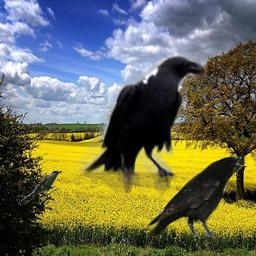Crow: (78, 52, 207, 199), (145, 154, 249, 243)
Cuckoo: (18, 170, 62, 205)
